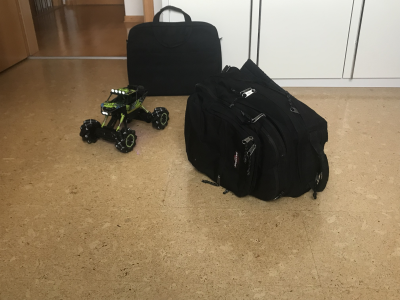remote control car: (77, 82, 170, 154)
